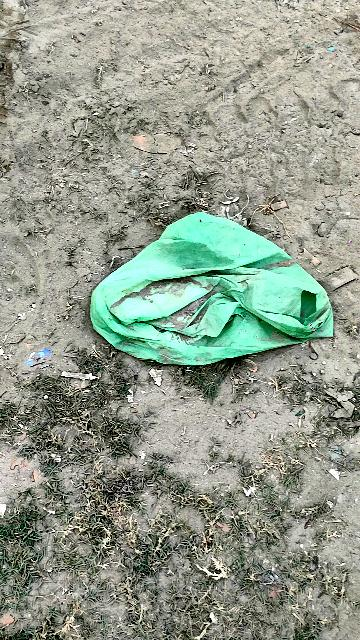polythene: (85, 191, 335, 384)
